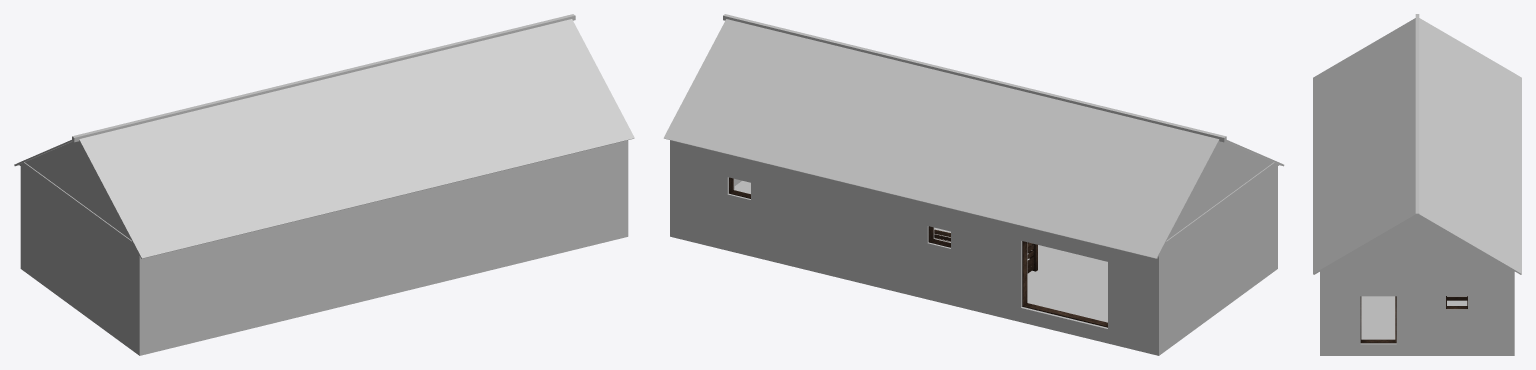
File: villagehouse2.obj
The picture shows the model from 3 angles, left to right: view 1: azimuth 30°, elevation 25°; view 2: azimuth 150°, elevation 25°; view 3: azimuth 270°, elevation 25°; orthographic projection. The views are drawn at different scales.
Parts seen in each view (by area): view 1: Roof, Wall; view 2: Roof, Wall, Wood; view 3: Roof, Wall, Wood.
Boxes of the visible parts, <box> form: Roof: <box>14,14,634,258</box>; Wall: <box>20,140,628,355</box>; Roof: <box>663,14,1284,258</box>; Wall: <box>670,140,1277,355</box>; Wood: <box>729,177,1107,327</box>; Roof: <box>1313,14,1521,274</box>; Wall: <box>1320,216,1514,355</box>; Wood: <box>1360,296,1467,343</box>.
Bounding box in the file's own units: 19.67 × 6.63 × 8.7.
